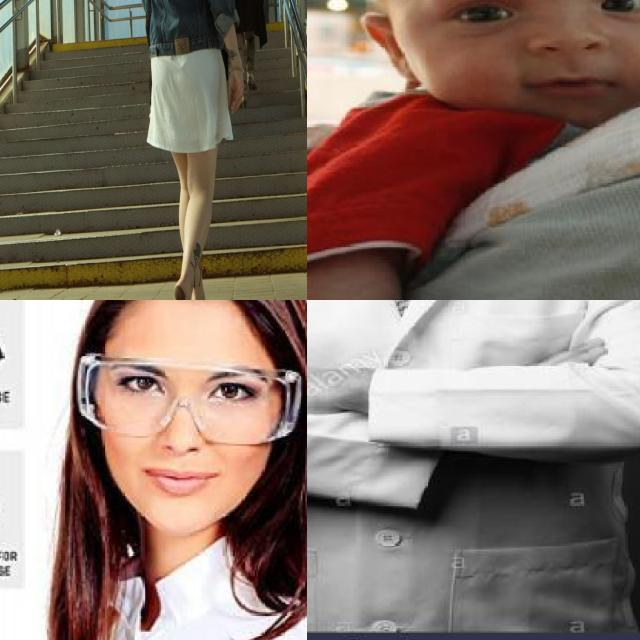Barefoots: (165, 279, 187, 300)
No_Ear-Protection: (349, 6, 431, 93)
No_Glasses: (413, 0, 640, 47)
face_nomask: (76, 352, 274, 506), (440, 0, 640, 102)
glasses: (73, 350, 301, 445)
head_nohelmet: (82, 300, 300, 322)
person: (307, 300, 640, 640), (11, 300, 307, 640)
